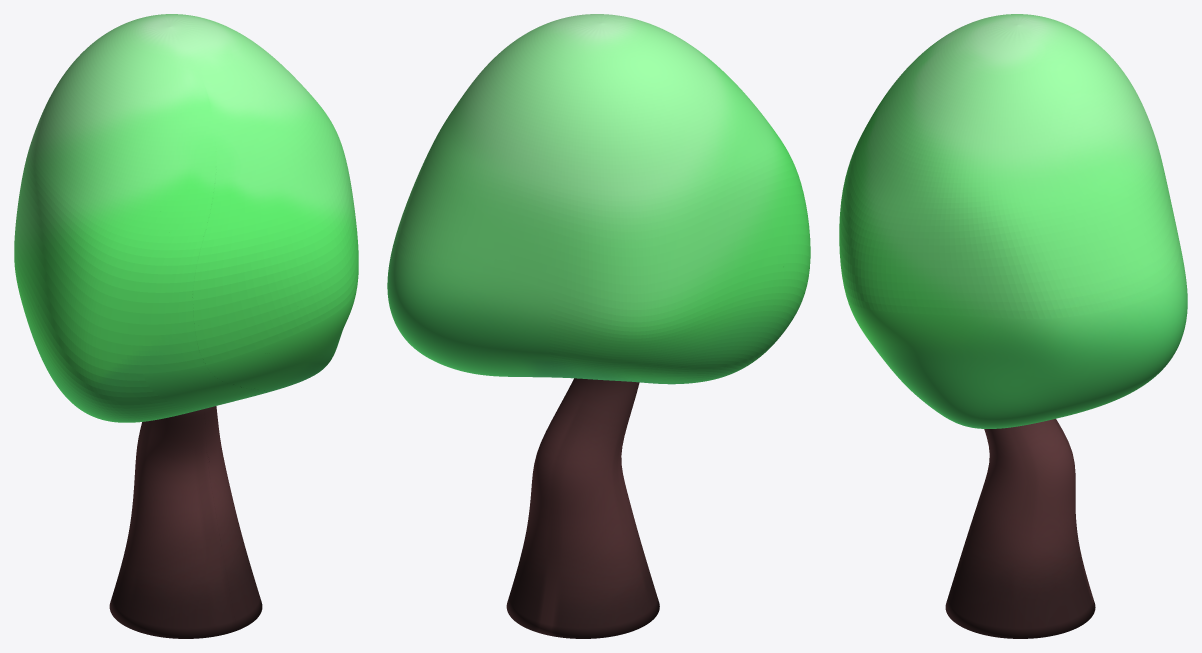
Rendered from simple tree 1.fbx.
3 renders of one model, left to right at view 1: azimuth 30°, elevation 25°; view 2: azimuth 150°, elevation 25°; view 3: azimuth 270°, elevation 25°, orthographic. The views are drawn at different scales.
Parts seen in each view (by area): view 1: Cylinder; view 2: Cylinder; view 3: Cylinder.
Part boxes in pixels (<box>): Cylinder: <box>14,14,358,638</box>; Cylinder: <box>387,14,810,638</box>; Cylinder: <box>839,14,1187,638</box>.
Size of the model in its own units: 530 by 896 by 493.
